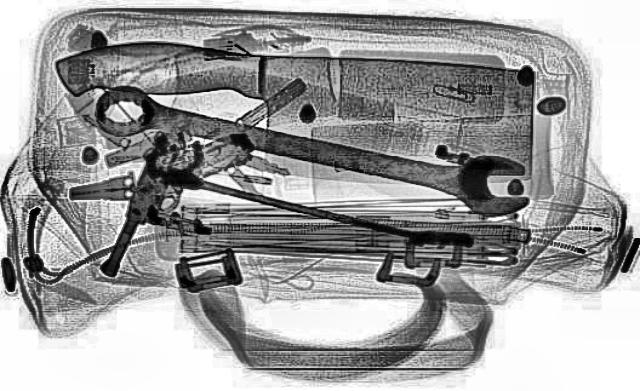Gun: (94, 122, 262, 286)
Knife: (37, 35, 549, 189)
Wrench: (76, 75, 552, 221)
